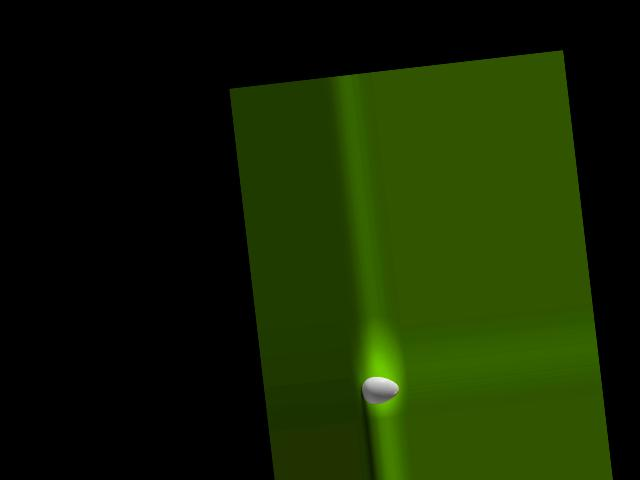egg: (360, 374, 400, 405)
